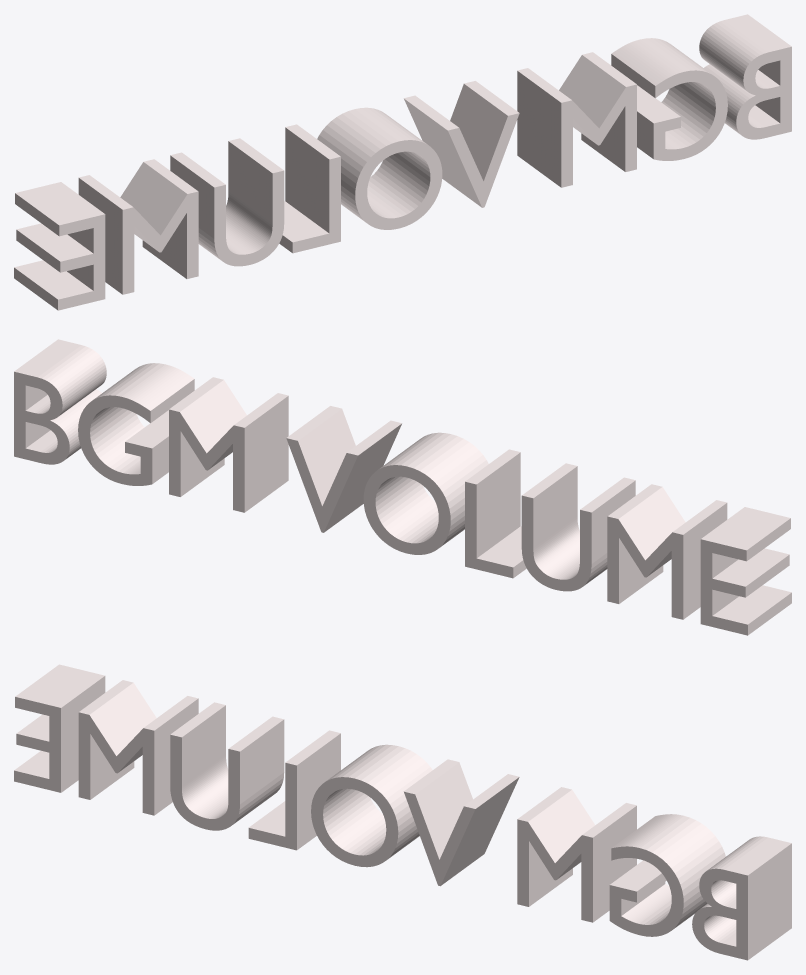
The model's file is Volume.obj.
3 renders of one model, top to bottom at view 1: azimuth 30°, elevation 25°; view 2: azimuth 150°, elevation 25°; view 3: azimuth 330°, elevation 25°, orthographic.
Parts seen in each view (by area): view 1: テキスト; view 2: テキスト; view 3: テキスト.
Boxes of the visible parts, <box> form: テキスト: <box>14,14,791,310</box>; テキスト: <box>14,339,791,635</box>; テキスト: <box>14,664,791,960</box>.
Bounding box in the file's own units: 2.56 × 0.2913 × 0.2673.
1 material, 1 textured.
